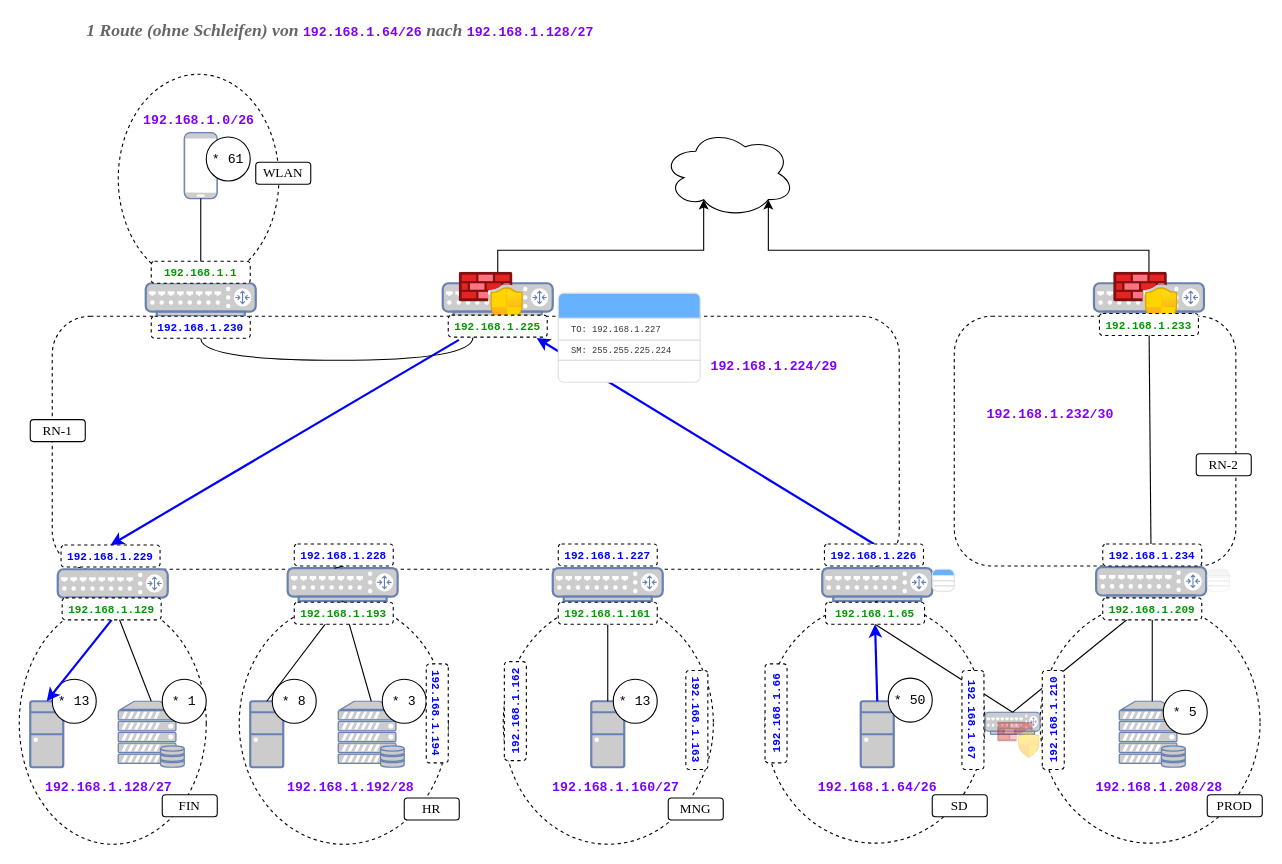
The diagram is 1282 pixels wide and 864 high, and some of its shapes have lost their labels. Each missing label, with the centre of its shape:
Internet: (728,172)
NA: 192.168.1.160: (628,370)
Route-TO-MNG: (628,305)
